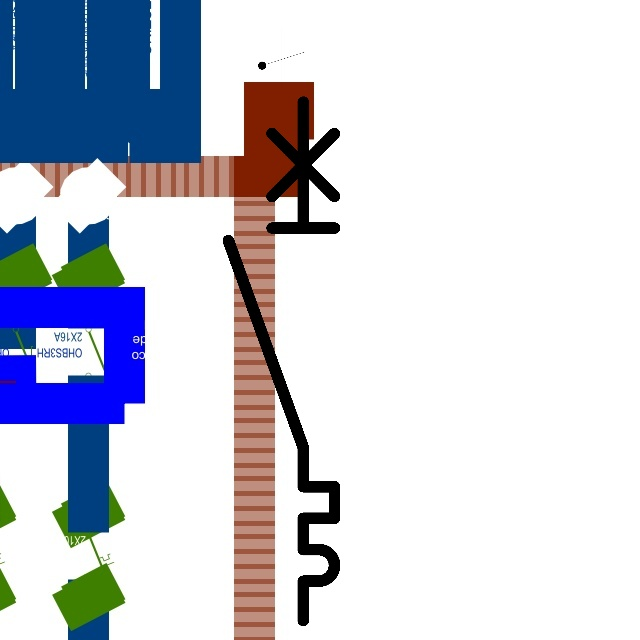interruptor_termomagnetico: (215, 88, 348, 634)
